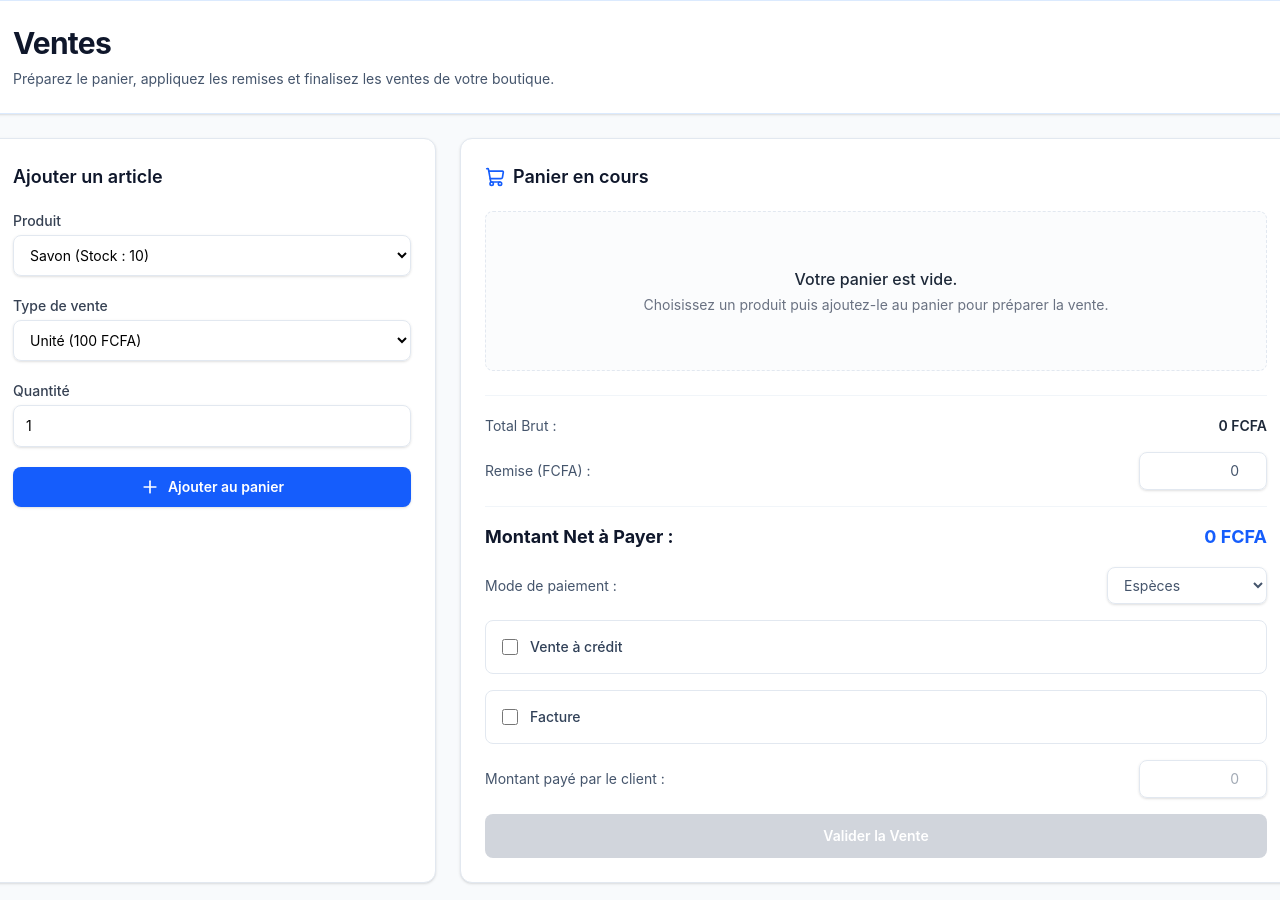
Test: Sales : case « Facture » › backend pas encore déployé (champ facture absent) : vente enregistrée, avertissement vers l'historique
The image size is (1280, 900).
Click the button "Ajouter au panier" at (212, 487), box [13,467,411,507]
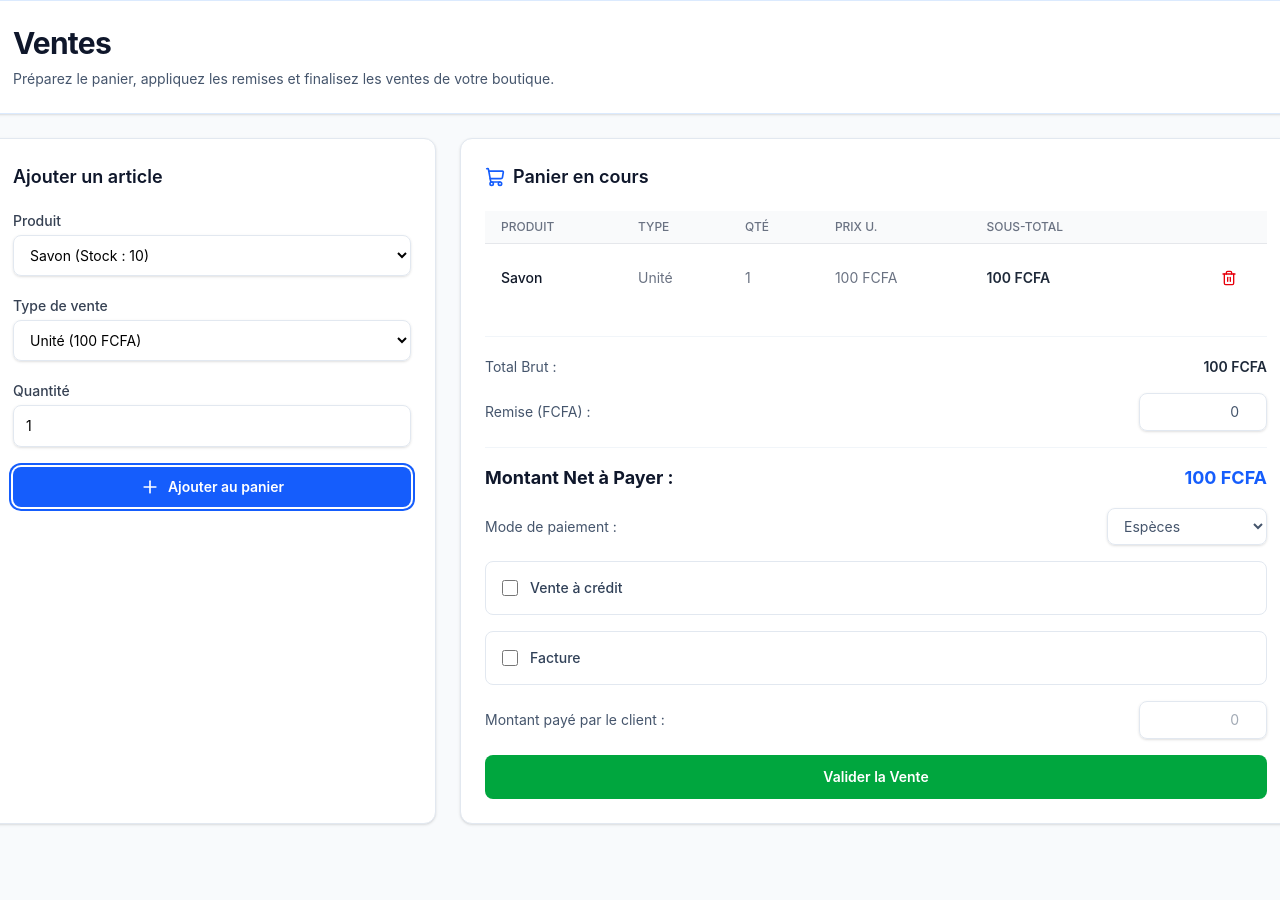
Type "100" into the number field with placeholder "0" at (1203, 720), box [1139,701,1267,739]
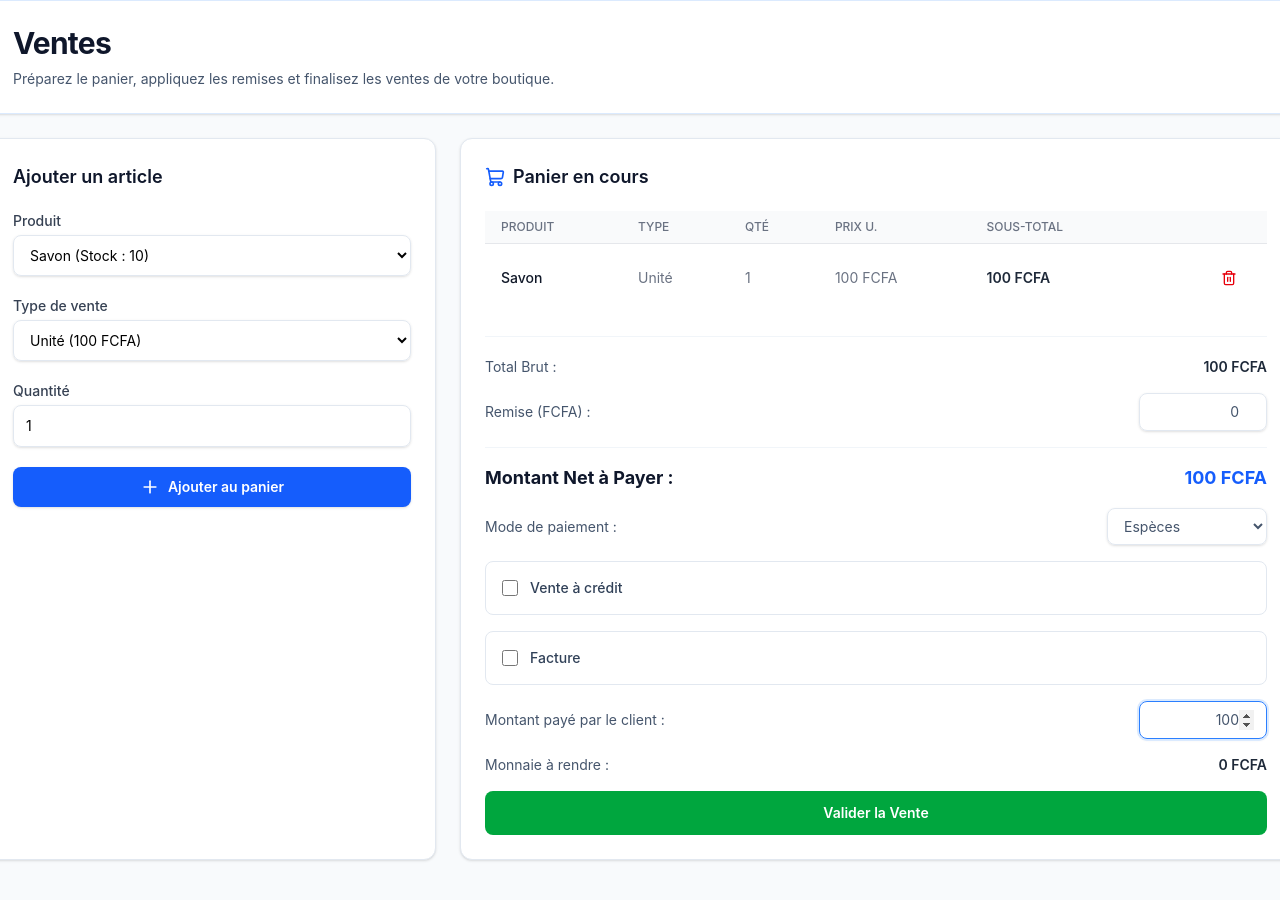
Click the checkbox labelled "Facture" at (510, 658), box [502,650,518,666]
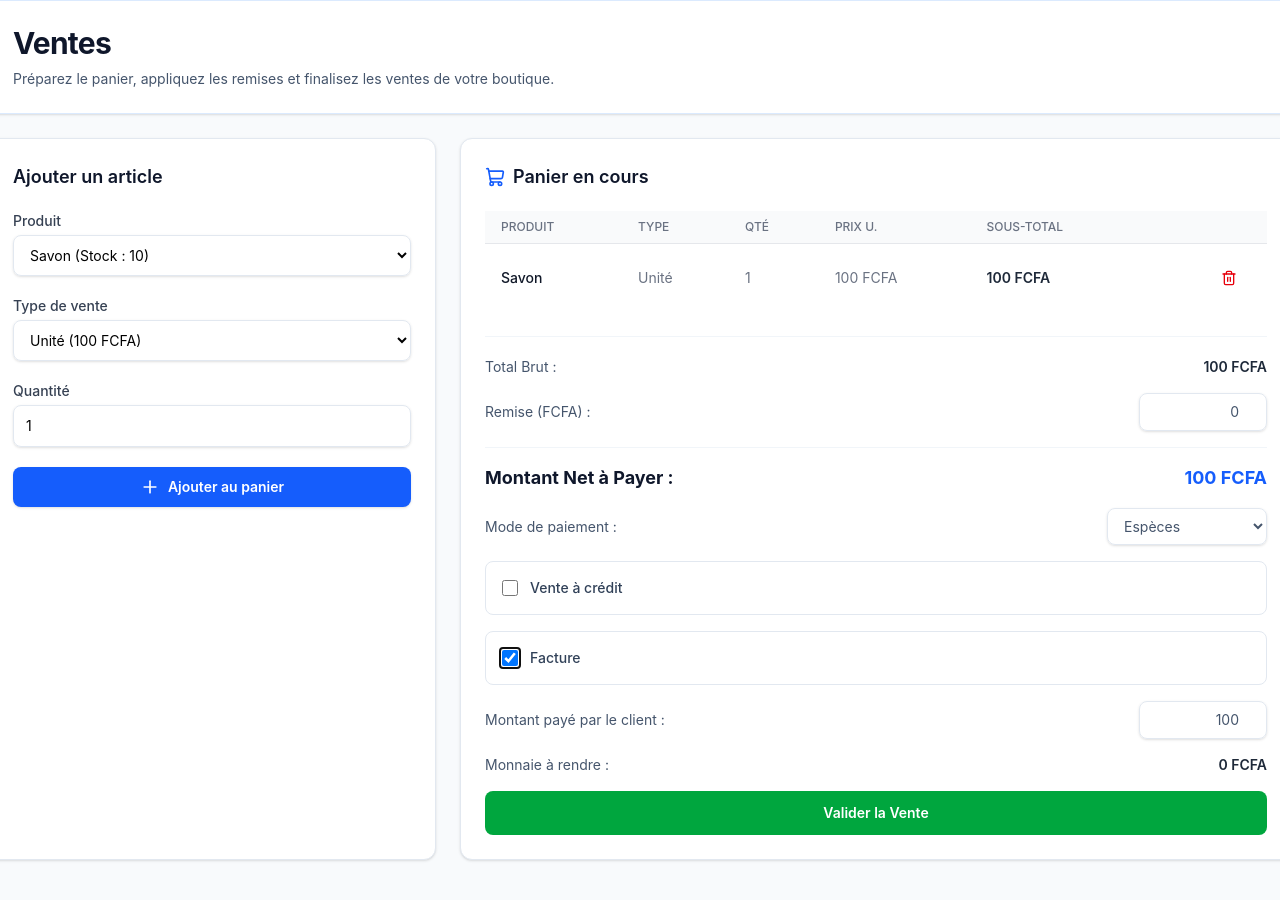
Click the button "Valider la Vente" at (876, 813), box [485,791,1267,835]
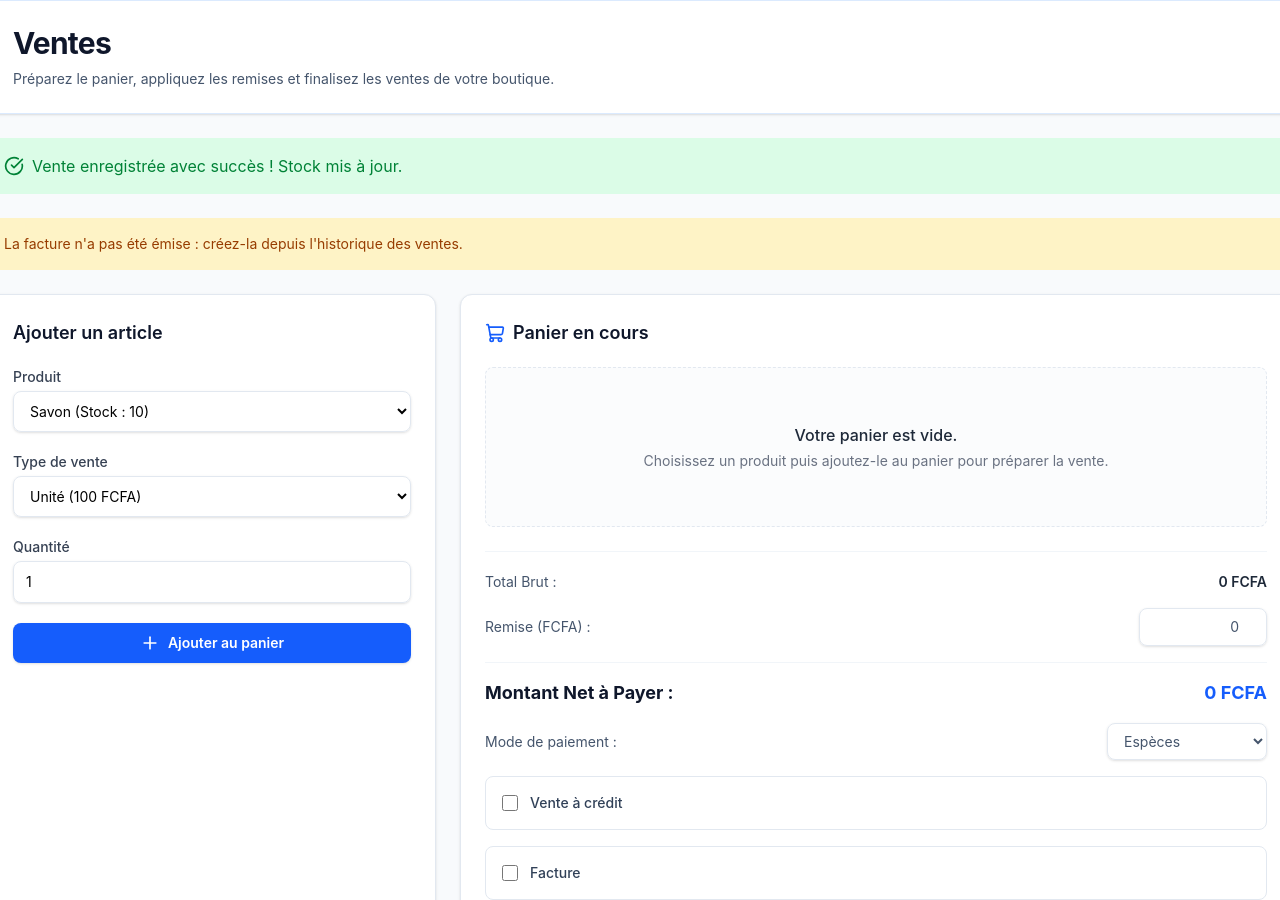
Result: the message reads "La facture n'a pas été émise : créez-la depuis l'historique des ventes." at [4,235,463,252]
